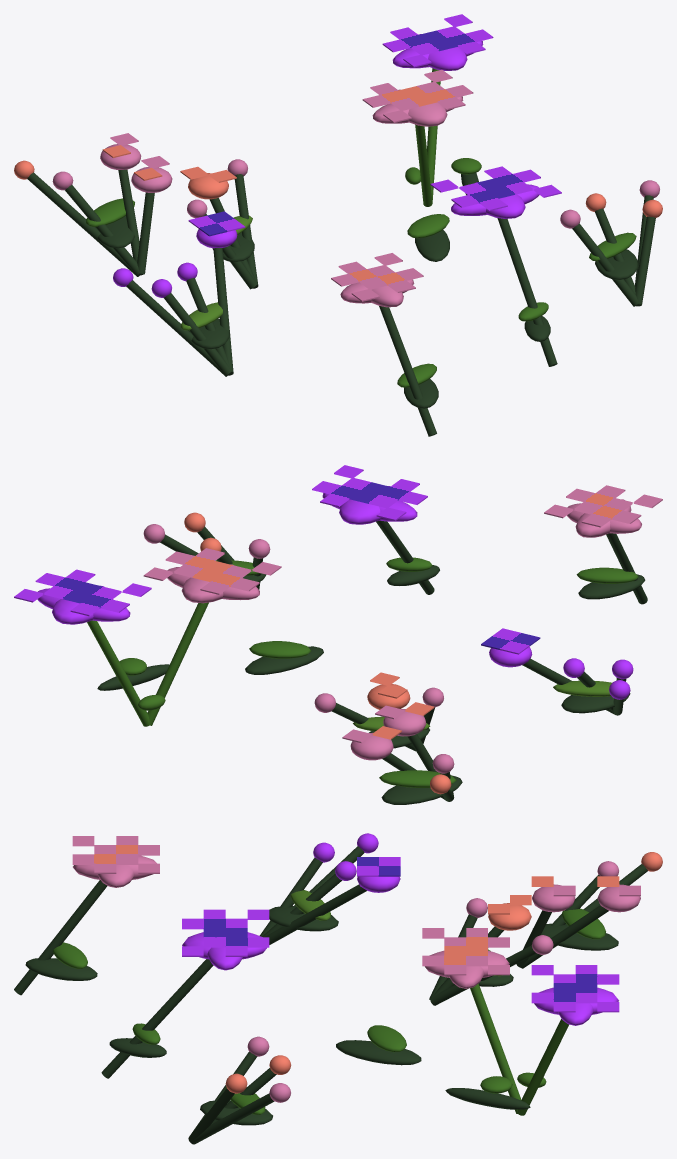
The model's file is CMU3DFlowerspv1.glb.
The picture shows the model from 3 angles, top to bottom: view 1: azimuth 30°, elevation 25°; view 2: azimuth 150°, elevation 25°; view 3: azimuth 270°, elevation 25°; orthographic projection. The views are drawn at different scales.
Parts seen in each view (by area): view 1: bloom 16 original petal colors, bloom 4 original petal colors, bloom 8 original petal colors, bloom 19 original petal colors, bloom 16 branching stem, bloom 19 branching stem, bloom 1 branching stem, bloom 11 branching stem, bloom 10 branching stem, bloom 3 branching stem, bloom 18 branching stem, bloom 17 branching stem (+19 smaller); view 2: bloom 4 original petal colors, bloom 8 original petal colors, bloom 16 original petal colors, bloom 19 original petal colors, bloom 8 branching stem, bloom 4 branching stem, foliage 5 low leaf, foliage 1 low leaf, bloom 10 original petal colors, foliage 5 raised leaf, foliage 1 raised leaf, foliage 9 low leaf (+21 smaller); view 3: bloom 4 original petal colors, bloom 16 original petal colors, bloom 8 original petal colors, bloom 19 original petal colors, bloom 16 branching stem, bloom 19 branching stem, foliage 5 low leaf, bloom 8 branching stem, bloom 10 branching stem, foliage 9 low leaf, foliage 3 low leaf, bloom 4 branching stem (+31 smaller).
Boxes of the visible parts, bbox=[...] form: bloom 16 original petal colors: bbox=[430, 166, 561, 210]; bloom 4 original petal colors: bbox=[382, 14, 493, 67]; bloom 8 original petal colors: bbox=[362, 69, 473, 122]; bloom 19 original petal colors: bbox=[331, 253, 423, 301]; bloom 16 branching stem: bbox=[497, 218, 557, 366]; bloom 19 branching stem: bbox=[379, 306, 436, 436]; bloom 1 branching stem: bbox=[27, 172, 140, 276]; bloom 11 branching stem: bbox=[126, 280, 228, 376]; bloom 10 branching stem: bbox=[213, 248, 233, 375]; bloom 3 branching stem: bbox=[65, 185, 140, 274]; bloom 18 branching stem: bbox=[635, 216, 655, 304]; bloom 17 branching stem: bbox=[572, 223, 638, 306]; bloom 4 original petal colors: bbox=[14, 569, 151, 616]; bloom 8 original petal colors: bbox=[143, 548, 281, 594]; bloom 16 original petal colors: bbox=[312, 465, 427, 520]; bloom 19 original petal colors: bbox=[544, 485, 662, 527]; bloom 8 branching stem: bbox=[147, 602, 208, 725]; bloom 4 branching stem: bbox=[87, 620, 149, 726]; foliage 5 low leaf: bbox=[245, 646, 323, 674]; foliage 1 low leaf: bbox=[381, 775, 462, 804]; bloom 10 original petal colors: bbox=[481, 628, 540, 654]; foliage 5 raised leaf: bbox=[249, 641, 310, 658]; foliage 1 raised leaf: bbox=[379, 770, 456, 787]; foliage 9 low leaf: bbox=[578, 574, 645, 599]; bloom 4 original petal colors: bbox=[531, 965, 619, 1012]; bloom 16 original petal colors: bbox=[182, 909, 269, 956]; bloom 8 original petal colors: bbox=[422, 928, 509, 975]; bloom 19 original petal colors: bbox=[72, 836, 159, 873]; bloom 16 branching stem: bbox=[101, 959, 213, 1078]; bloom 19 branching stem: bbox=[14, 880, 107, 995]; foliage 5 low leaf: bbox=[336, 1040, 421, 1065]; bloom 8 branching stem: bbox=[470, 984, 521, 1113]; bloom 10 branching stem: bbox=[264, 884, 366, 944]; foliage 9 low leaf: bbox=[25, 958, 97, 980]; foliage 3 low leaf: bbox=[445, 1088, 530, 1109]; bloom 4 branching stem: bbox=[517, 1019, 568, 1115].
Size of the model in its own units: 0.875 by 0.2311 by 0.9275.
Materials: 14 (8 with a texture image).
